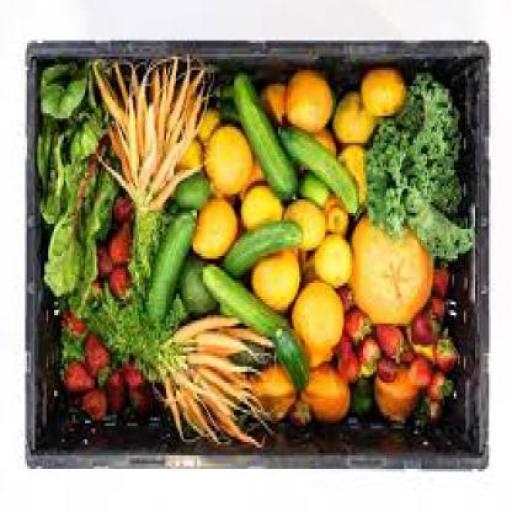biodegradable: (363, 72, 471, 264), (44, 148, 116, 316), (350, 215, 430, 331), (143, 73, 210, 208), (35, 99, 102, 232), (54, 282, 163, 359), (232, 76, 296, 205), (274, 127, 357, 218), (81, 294, 164, 385), (200, 266, 286, 343), (172, 356, 266, 420), (143, 218, 195, 332), (154, 70, 205, 186), (89, 65, 131, 205), (168, 315, 270, 364), (220, 226, 299, 280), (201, 124, 253, 197), (290, 286, 340, 356), (118, 68, 140, 210), (190, 197, 238, 261), (130, 216, 164, 305), (153, 54, 177, 180), (370, 364, 418, 426), (131, 65, 151, 213), (282, 76, 332, 134), (37, 64, 85, 124), (147, 170, 203, 218), (251, 254, 295, 312), (301, 370, 348, 424), (178, 334, 256, 366), (179, 256, 219, 318), (358, 70, 406, 121), (330, 94, 372, 148), (250, 366, 292, 420), (273, 332, 307, 398), (136, 108, 158, 207), (205, 408, 264, 444), (282, 204, 324, 254), (176, 313, 245, 342), (313, 240, 352, 288), (240, 189, 282, 232), (336, 148, 366, 208), (218, 326, 276, 353), (160, 375, 182, 441), (183, 404, 223, 439), (208, 84, 240, 124), (176, 175, 207, 215), (80, 342, 106, 388), (54, 367, 95, 396), (408, 313, 439, 350), (297, 176, 327, 212), (375, 332, 404, 368), (350, 380, 375, 420), (108, 220, 128, 270), (79, 388, 104, 428), (193, 108, 218, 148), (258, 92, 284, 130), (355, 336, 377, 380), (106, 388, 130, 428), (428, 264, 450, 307), (425, 375, 454, 407), (176, 394, 198, 436), (406, 361, 432, 396), (300, 342, 330, 372), (106, 270, 128, 310), (340, 318, 369, 348), (431, 343, 456, 377), (179, 138, 201, 175), (242, 162, 264, 199), (125, 394, 149, 426), (424, 300, 446, 334), (322, 207, 346, 237), (309, 132, 336, 158), (60, 315, 83, 345), (334, 358, 356, 388), (286, 402, 308, 431), (95, 251, 112, 286), (119, 364, 139, 393), (298, 259, 315, 291), (62, 402, 80, 431), (419, 401, 439, 426), (106, 370, 124, 396), (59, 345, 83, 364), (114, 194, 127, 226), (336, 291, 352, 316), (330, 342, 348, 364), (377, 369, 396, 388), (410, 350, 432, 366)
